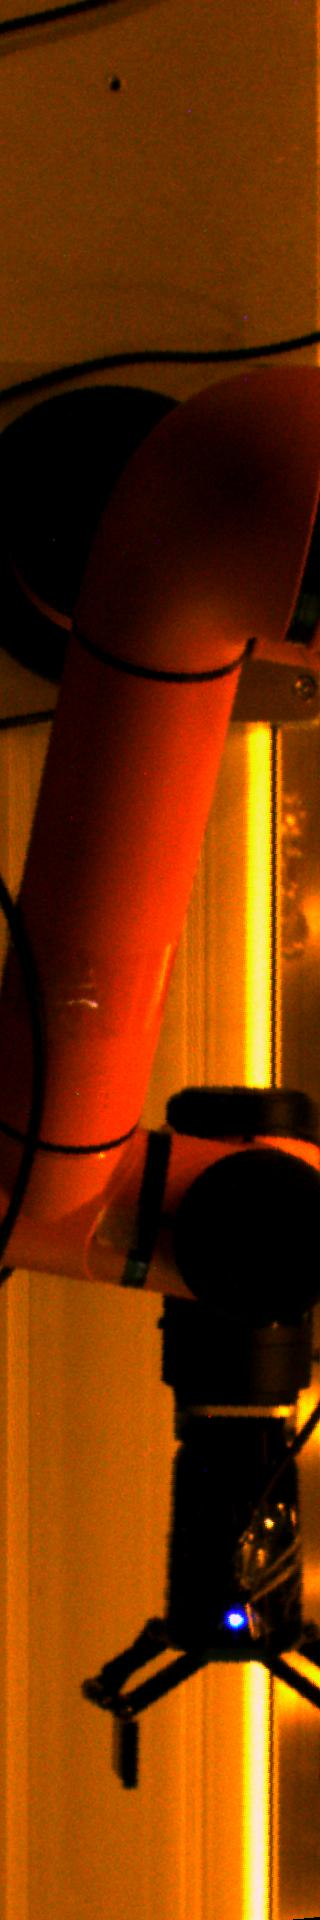keyPoint_1: (219, 1602, 250, 1632)
keyPoint_2: (99, 70, 129, 100)
